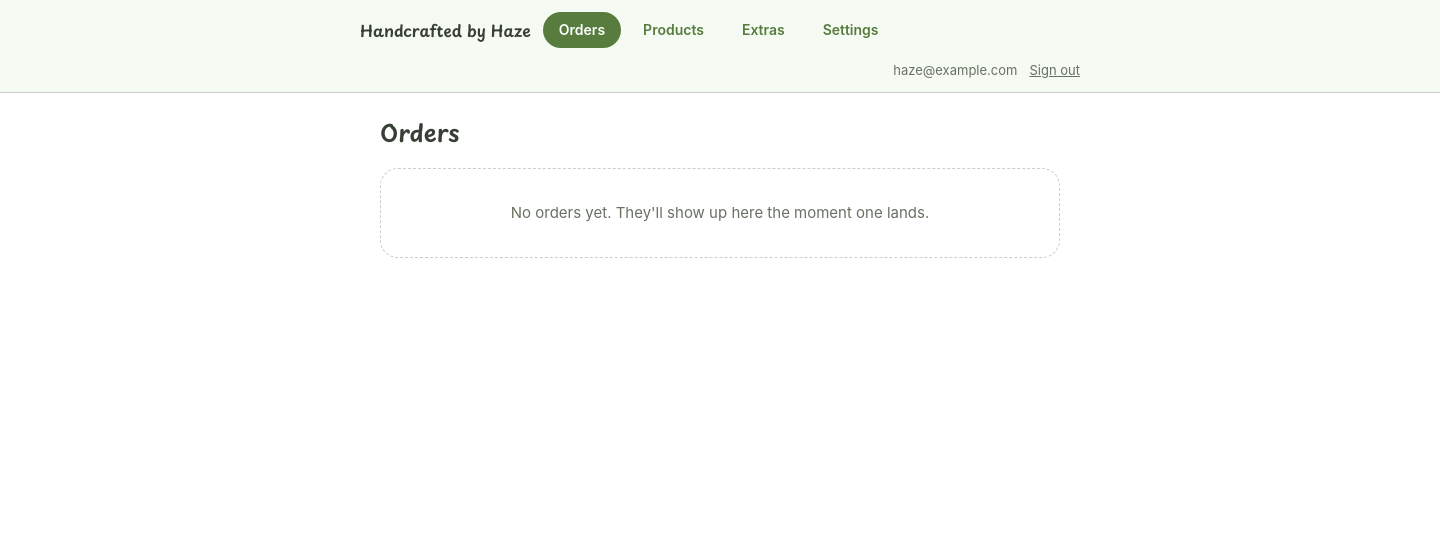
Test: the settings screen › is reachable from the nav and deep-linkable
Click the link "Settings". click: (851, 30)
box: [823,21,879,38]
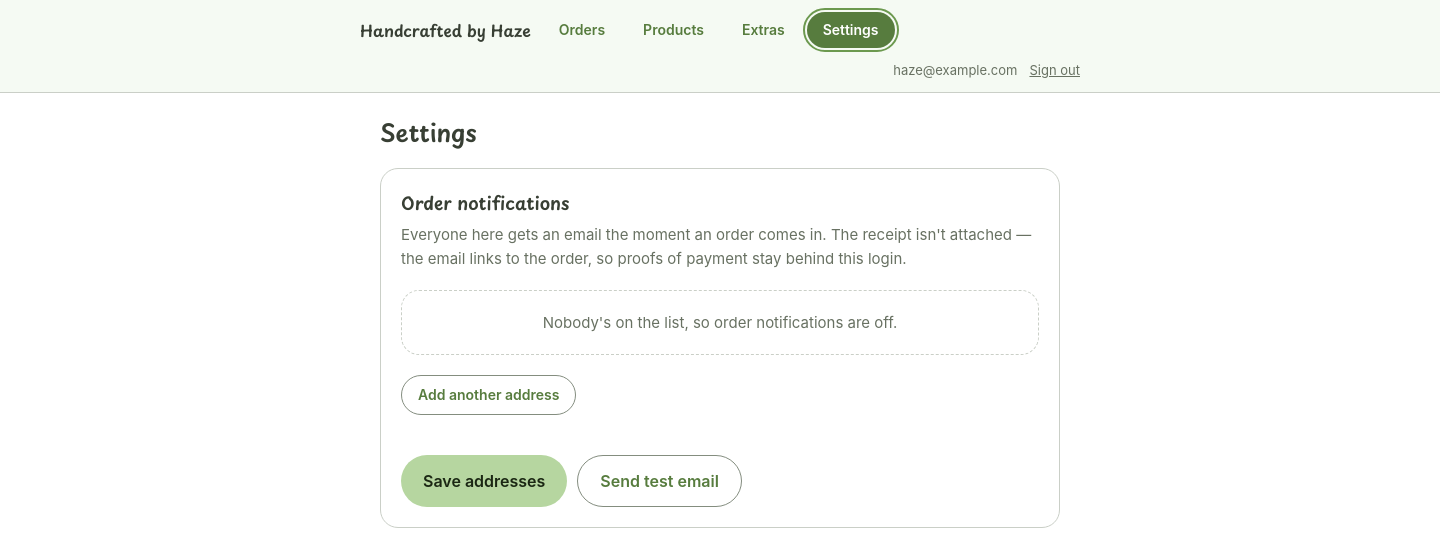
Result: the heading "Order notifications" is shown at [401,189,570,216]
